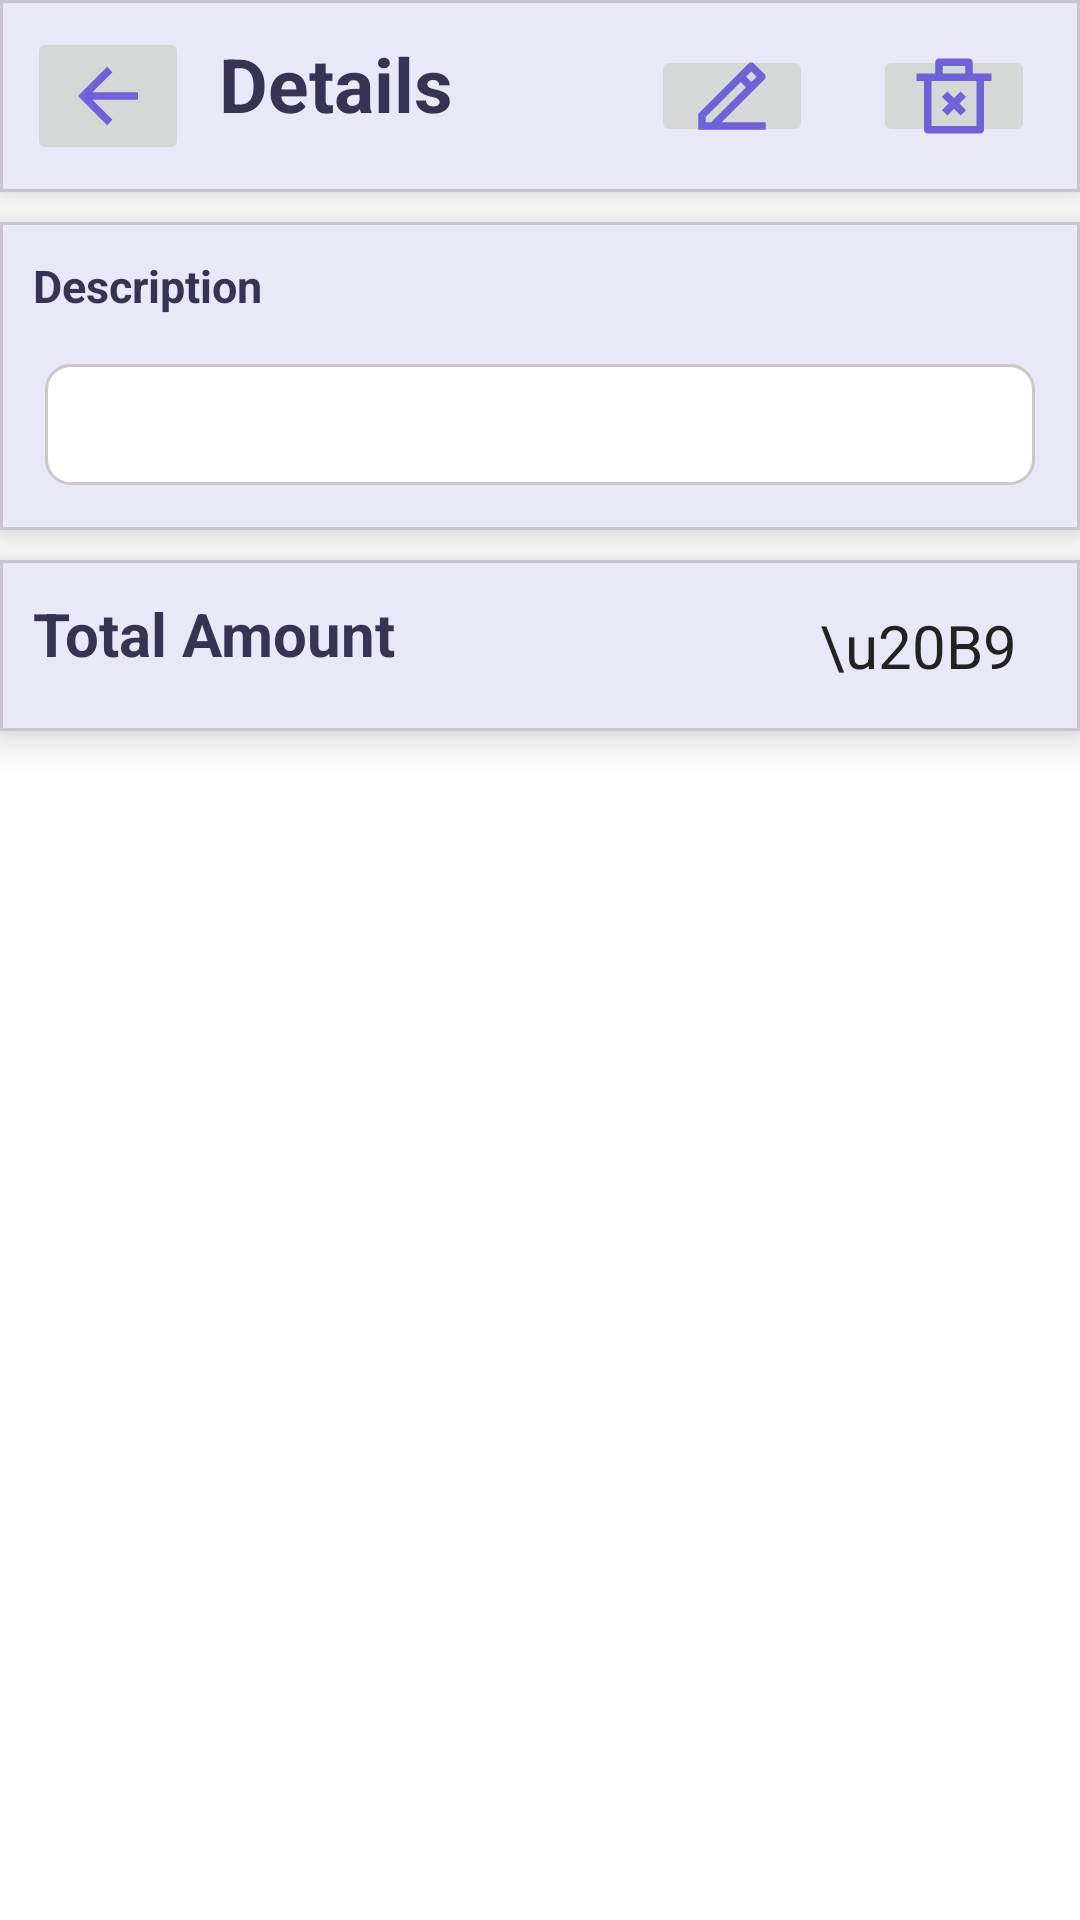

Icons on this 1080 x 1920 Android screen, each with its box as (x1=x1, y1=y1, x2=x2, y2=y2):
arrow left: (x1=39, y1=45, x2=177, y2=147)
delete: (x1=885, y1=58, x2=1023, y2=134)
edit: (x1=663, y1=62, x2=801, y2=130)
